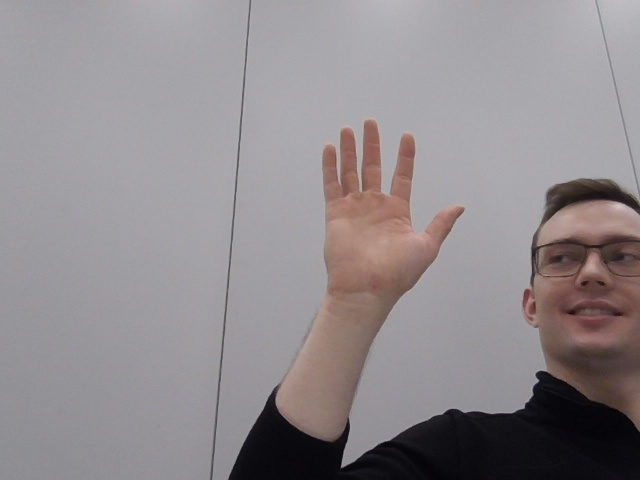nada: (296, 110, 486, 342)
